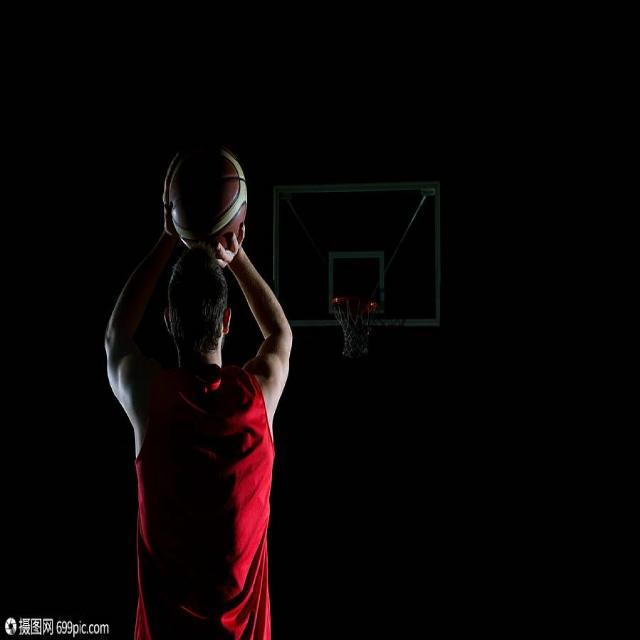rim: (166, 144, 247, 257)
